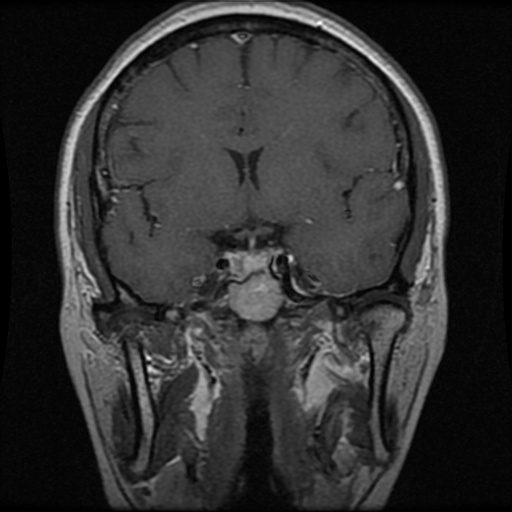pituitary: (227, 246, 272, 279)
